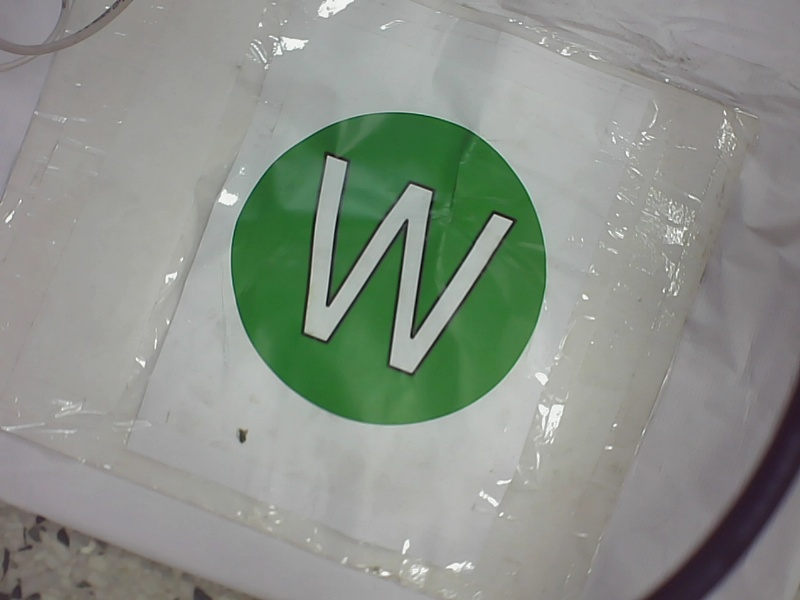areaB: (224, 100, 557, 435)
